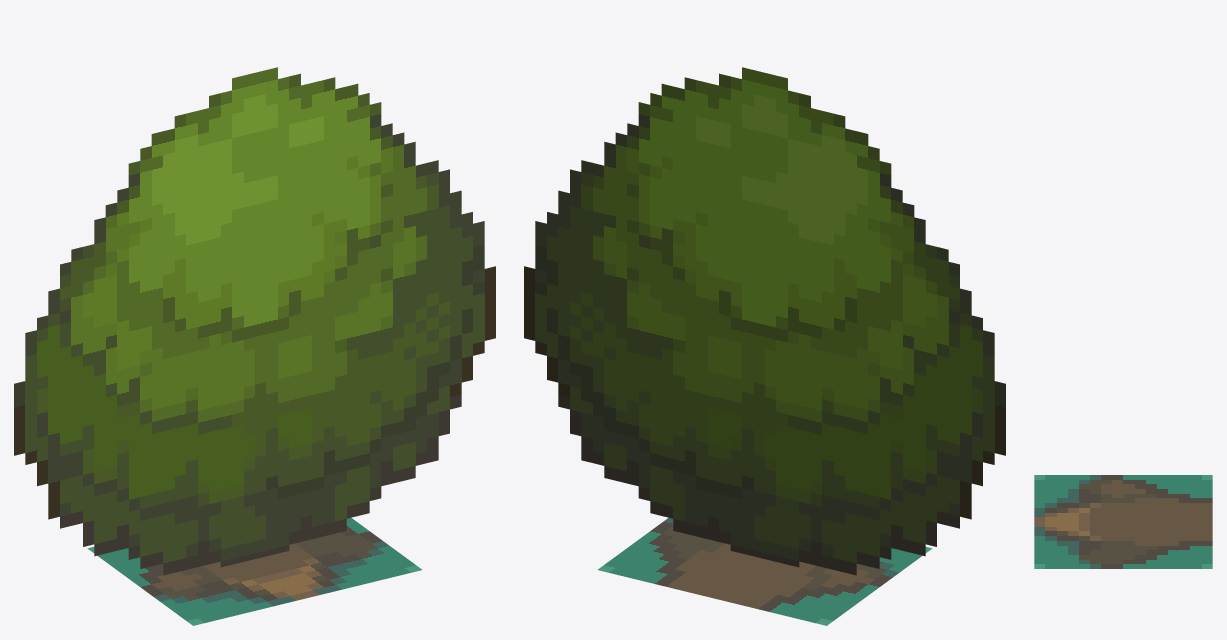
The model's file is tree.glb.
The picture shows the model from 3 angles, left to right: view 1: azimuth 30°, elevation 25°; view 2: azimuth 150°, elevation 25°; view 3: azimuth 270°, elevation 25°; orthographic projection. The views are drawn at different scales.
Visible parts, largest first — view 1: tree; view 2: tree; view 3: tree.
Part boxes in pixels (x1,y1,x2,y2): tree: [14, 67, 495, 625]; tree: [524, 67, 1005, 625]; tree: [1034, 475, 1212, 568].
Size of the model in its own units: 2.62 by 2.56 by 1.
Materials: 2 (2 with a texture image).
